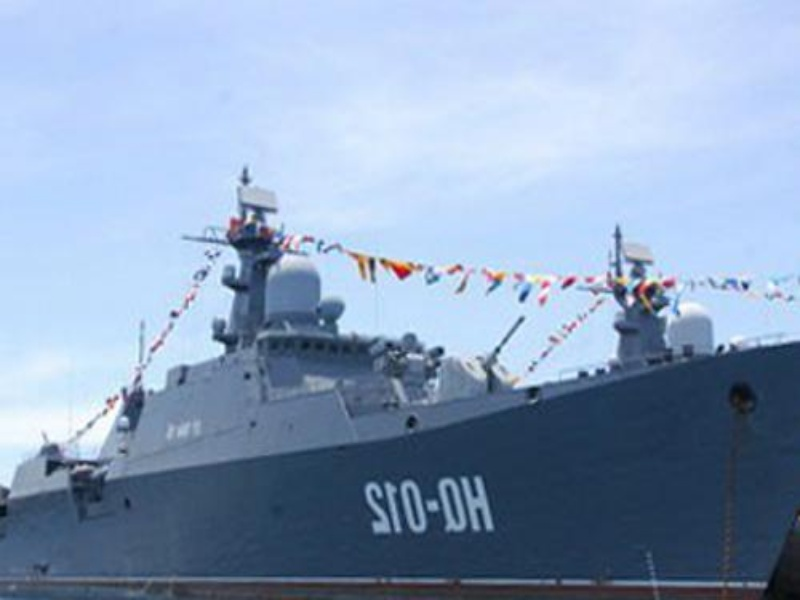cruise: (26, 241, 790, 593)
